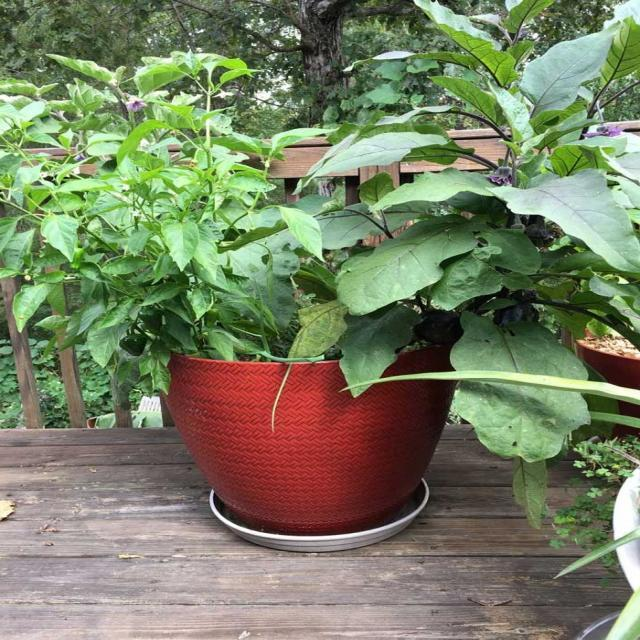brinjal: (297, 0, 640, 396), (452, 386, 587, 525)
plant: (0, 51, 323, 391)
